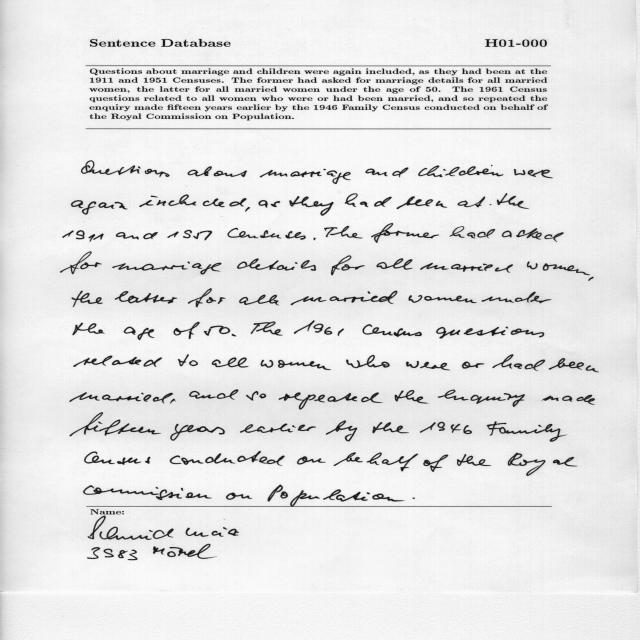word: (481, 277, 594, 303), (268, 485, 405, 506), (70, 413, 161, 437), (84, 485, 212, 500), (279, 392, 383, 410), (170, 451, 285, 466), (487, 421, 567, 442), (508, 453, 578, 476), (334, 453, 418, 472), (438, 389, 525, 407), (291, 291, 398, 305), (112, 262, 222, 275), (81, 161, 170, 177), (140, 195, 247, 208), (260, 169, 351, 184), (371, 223, 439, 243), (436, 327, 544, 339), (70, 392, 173, 404), (74, 355, 162, 367), (237, 258, 316, 271), (419, 165, 504, 177), (60, 252, 102, 275), (227, 228, 306, 240), (170, 424, 225, 441), (421, 263, 514, 273), (85, 451, 151, 465), (289, 196, 334, 216), (502, 228, 564, 242), (71, 200, 128, 215), (493, 355, 546, 371), (115, 291, 177, 304), (362, 324, 422, 337), (240, 423, 316, 433), (294, 321, 344, 336), (188, 288, 226, 307), (260, 360, 331, 370), (549, 358, 599, 372), (331, 256, 365, 276), (345, 194, 392, 208), (326, 421, 357, 442), (397, 196, 447, 209), (188, 166, 247, 177), (490, 193, 529, 209), (420, 422, 472, 434), (450, 226, 495, 239), (346, 355, 390, 368), (543, 264, 590, 276), (409, 295, 477, 303), (542, 395, 595, 405), (189, 390, 239, 400), (72, 291, 103, 307), (63, 230, 104, 242), (324, 226, 363, 238), (395, 390, 428, 404), (173, 322, 200, 339), (168, 230, 213, 240), (251, 322, 283, 336), (239, 295, 279, 306), (377, 258, 413, 270), (366, 168, 409, 178), (424, 455, 449, 472), (73, 323, 105, 336), (457, 454, 491, 466), (212, 357, 249, 368), (372, 422, 409, 433), (406, 361, 450, 370), (124, 327, 154, 340), (514, 169, 553, 178), (116, 232, 158, 240), (458, 197, 485, 208), (297, 456, 326, 465), (204, 326, 230, 336), (178, 355, 198, 366), (226, 492, 252, 500), (246, 391, 266, 401), (462, 361, 484, 369), (259, 200, 280, 208), (527, 262, 538, 270), (170, 399, 176, 404), (245, 207, 250, 212), (232, 334, 237, 336), (313, 238, 316, 240), (412, 497, 415, 499)
